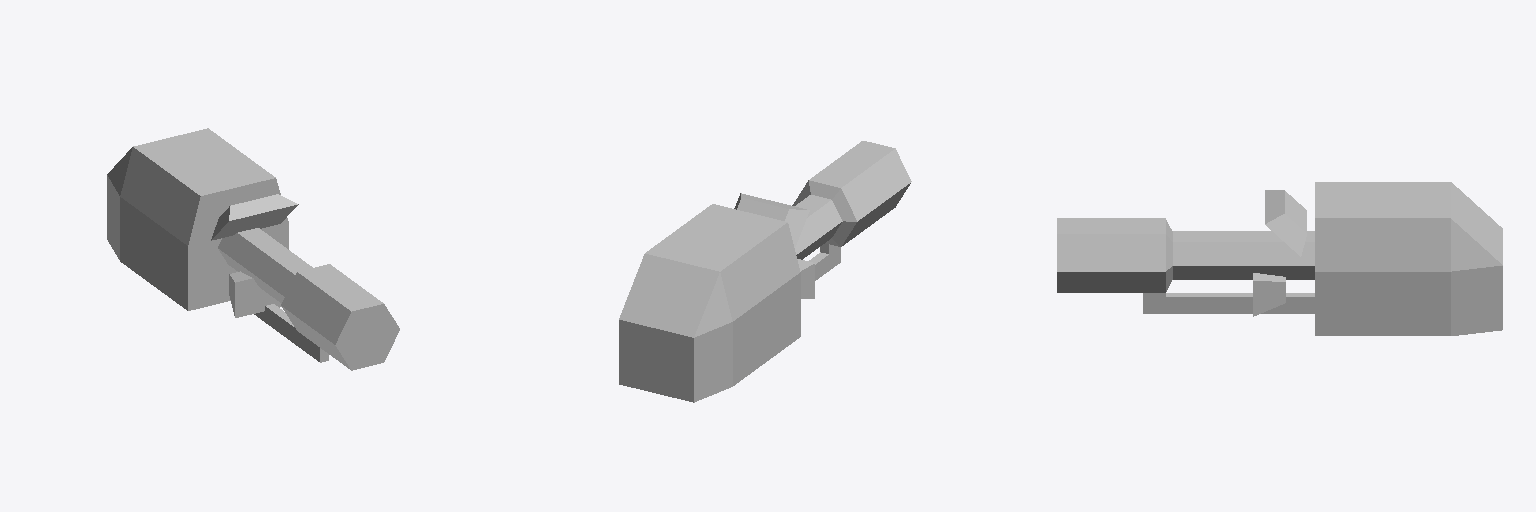
File: wep01_static.obj
3 renders of one model, left to right at view 1: azimuth 30°, elevation 25°; view 2: azimuth 150°, elevation 25°; view 3: azimuth 270°, elevation 25°, orthographic.
Parts seen in each view (by area): view 1: frm-wepbas1, frm-wepbar1, frm-wepbas2, frm-wepbas3, frm-bwepbar; view 2: frm-wepbas1, frm-wepbar1, frm-wepbas2, frm-bwepbar, frm-wepbas3; view 3: frm-wepbas1, frm-wepbar1, frm-bwepbar, frm-wepbas2, frm-wepbas3.
Boxes of the visible parts, <box> form: frm-wepbas1: <box>107,128,288,310</box>; frm-wepbar1: <box>218,228,399,370</box>; frm-wepbas2: <box>211,194,298,240</box>; frm-wepbas3: <box>229,271,281,317</box>; frm-bwepbar: <box>254,304,328,362</box>; frm-wepbas1: <box>619,204,800,402</box>; frm-wepbar1: <box>792,141,911,259</box>; frm-wepbas2: <box>734,193,809,247</box>; frm-bwepbar: <box>809,243,840,280</box>; frm-wepbas3: <box>797,259,814,298</box>; frm-wepbas1: <box>1315,182,1502,335</box>; frm-wepbar1: <box>1057,218,1314,292</box>; frm-bwepbar: <box>1143,293,1314,313</box>; frm-wepbas2: <box>1265,190,1306,256</box>; frm-wepbas3: <box>1253,273,1285,316</box>.
Size of the model in its own units: 0.2111 by 0.2246 by 0.8115.